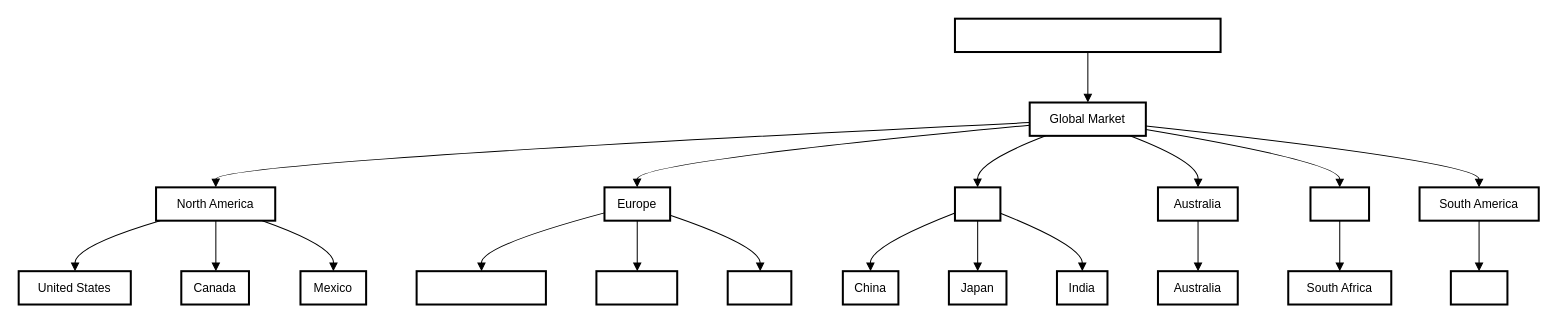
Image size: 1556x322. Some labels were removed from this diagram. The shapes that lost their labels are listed below. From the top down, each one's centre as x and y in pixels, then its label:
At (1087,35): "Tech Gadget E-commerce Business".
At (977,203): "Asia".
At (1339,203): "Africa".
At (480,287): "United Kingdom".
At (636,287): "Germany".
At (759,287): "France".
At (1478,287): "Brazil".
